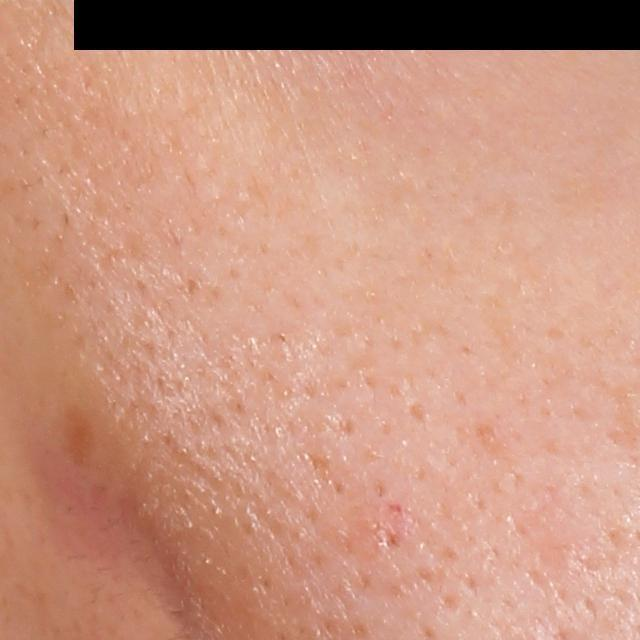melasma: (58, 392, 97, 469)
